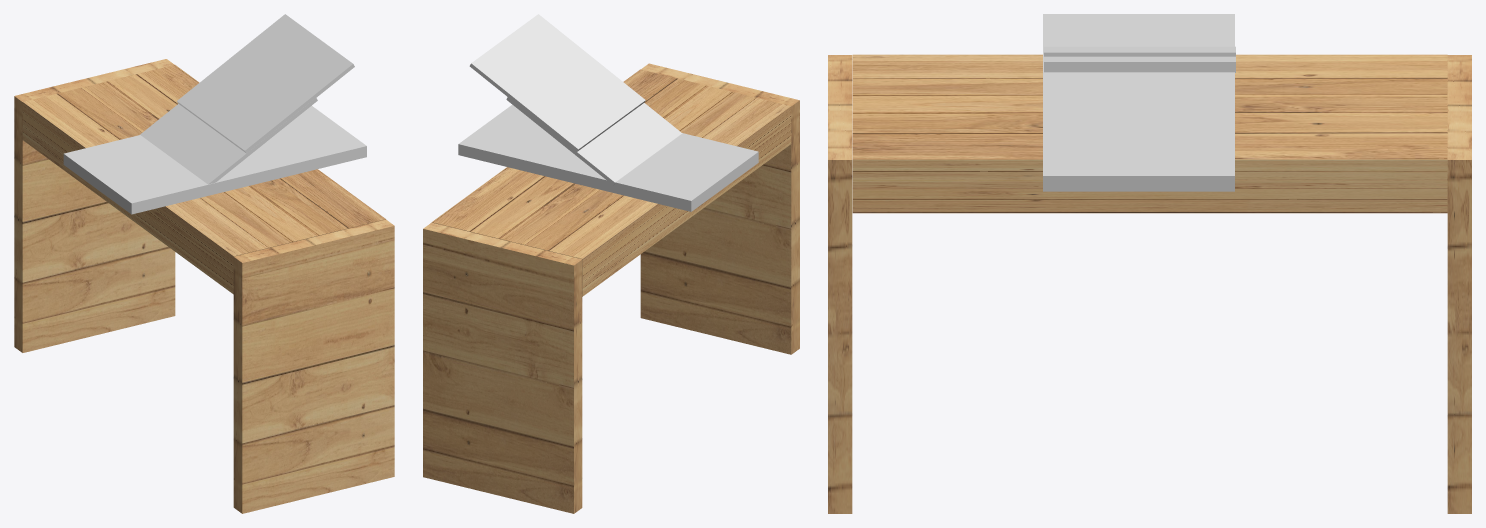
Rendered from Peça+Bancada-V3.gltf.
The picture shows the model from 3 angles, left to right: view 1: azimuth 30°, elevation 25°; view 2: azimuth 150°, elevation 25°; view 3: azimuth 270°, elevation 25°; orthographic projection. The views are drawn at different scales.
Visible parts, largest first — view 1: Cube.002, Cube.003, Cube, Cube.001, Cube002, Cube001; view 2: Cube.003, Cube.002, Cube, Cube.001, Cube002, Cube001; view 3: Cube, Cube.001, Cube.002, Cube.003, Cube001, Cube002.
Boxes of the visible parts, left/top/right/bottom form: Cube.002: left=233, top=219, right=394, bottom=513; Cube.003: left=14, top=59, right=175, bottom=352; Cube: left=22, top=65, right=385, bottom=294; Cube.001: left=63, top=106, right=366, bottom=214; Cube002: left=177, top=14, right=354, bottom=153; Cube001: left=140, top=98, right=317, bottom=184; Cube.003: left=423, top=222, right=582, bottom=513; Cube.002: left=640, top=63, right=799, bottom=354; Cube: left=431, top=69, right=791, bottom=296; Cube.001: left=458, top=104, right=758, bottom=211; Cube002: left=469, top=14, right=645, bottom=152; Cube001: left=506, top=97, right=682, bottom=185; Cube: left=852, top=54, right=1447, bottom=213; Cube.001: left=1043, top=14, right=1234, bottom=191; Cube.002: left=828, top=55, right=852, bottom=513; Cube.003: left=1447, top=55, right=1471, bottom=513; Cube001: left=1044, top=56, right=1235, bottom=72; Cube002: left=1044, top=46, right=1235, bottom=56.
Bounding box in the file's own units: 0.9241 × 1.31 × 1.55.
Materials: 6 (3 with a texture image).
